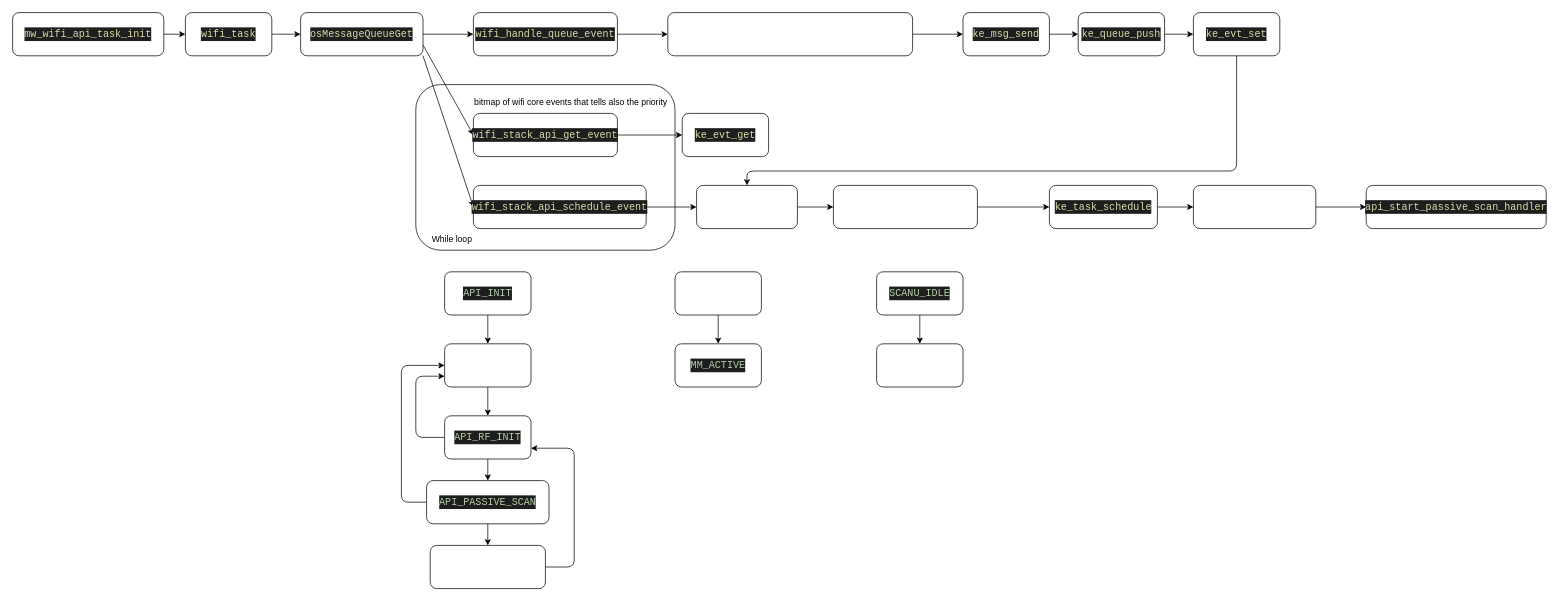
Image size: 1560x601. Some labels were removed from this diagram. Here are the shapes that lost their labels. From the top down, the centre of each, then its label:
At [790,34]: "wifi_stack_api_send_start_passive_scan".
At [746,207]: "ke_evt_schedule".
At [905,207]: "ke_evt_hdlr [ event ]. func".
At [1254,207]: "ke_task_handler_get".
At [717,293]: "MM_IDLE".
At [487,365]: "API_IDLE".
At [919,365]: "SCANU_SCANNING".
At [487,567]: "API_PENDING_FOR_RF".
